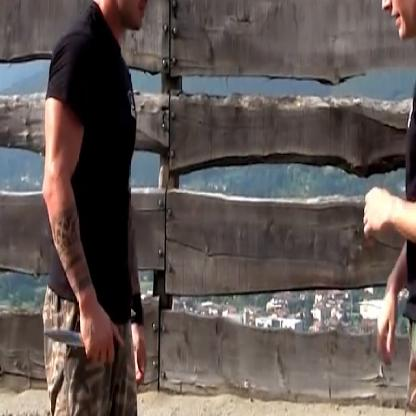knife: (36, 303, 114, 370)
